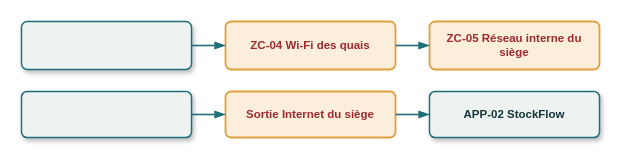
Some shapes in this 624 by 163 pixel diagram are drawn without their labels. Each missing label, with the centre of its shape:
TRM-01 Scanners des quais: point 107,115
Téléphones des sous-traitants: point 107,46
